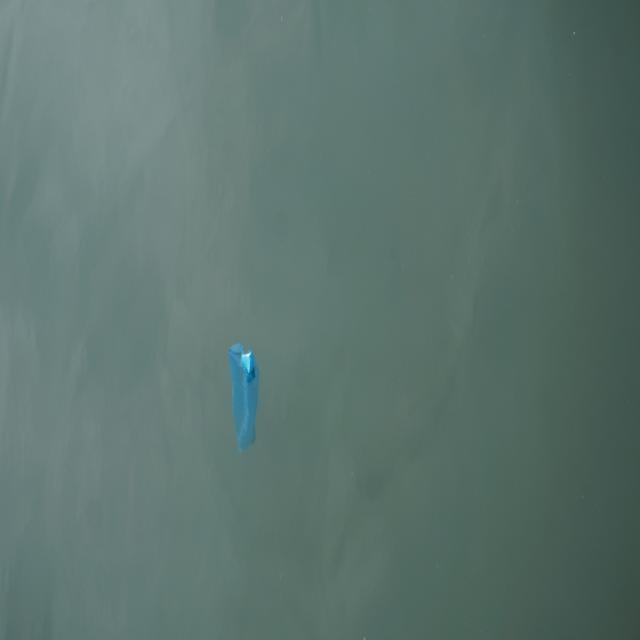Kantong Plastik: (225, 336, 265, 458)
